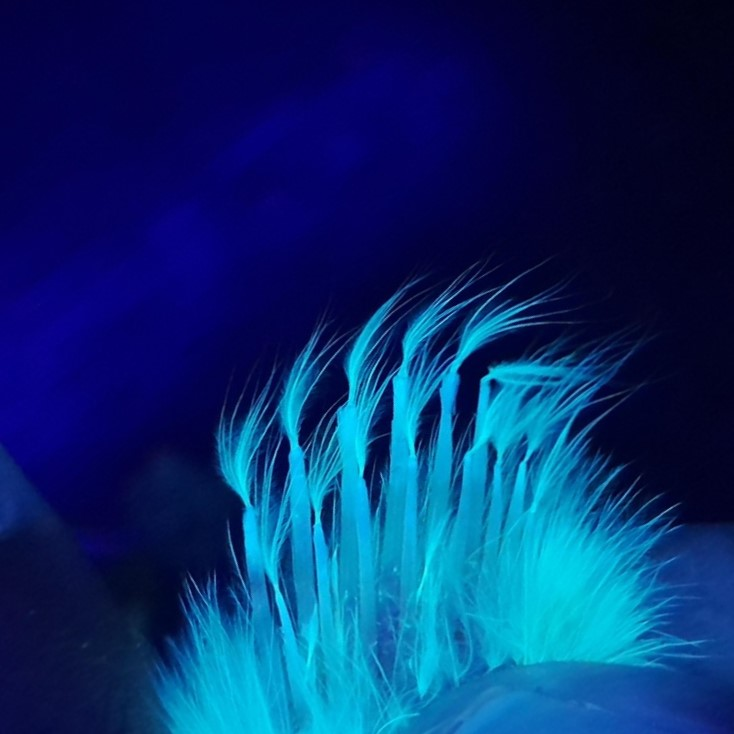female: (210, 352, 556, 715)
